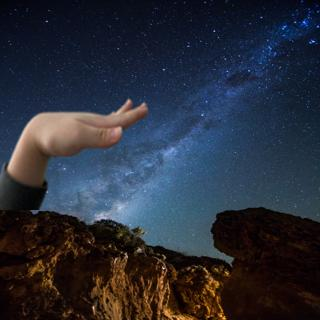Wait: (18, 93, 151, 156)
